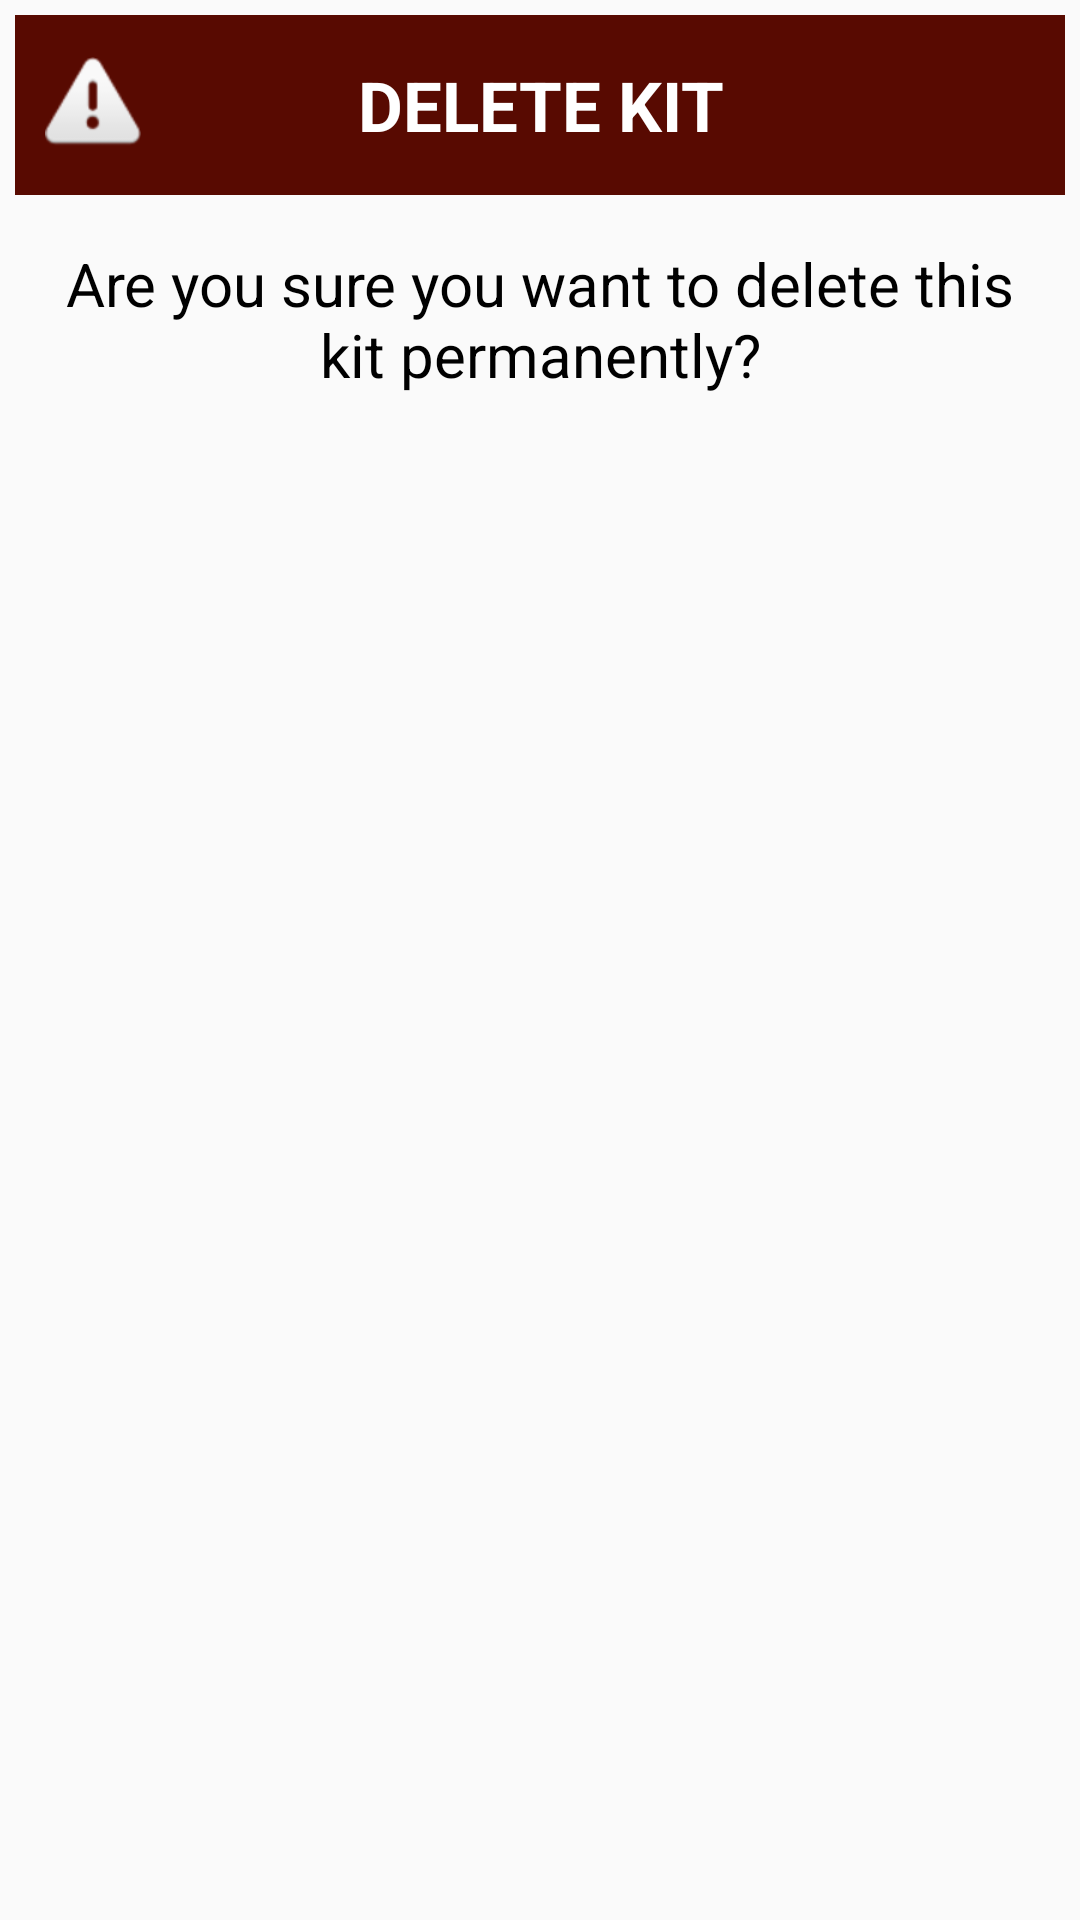

Screen size 1080 × 1920. Icon name, then its box in pixels as [x1, y1, x2, y2]:
alert: [45, 57, 141, 144]
